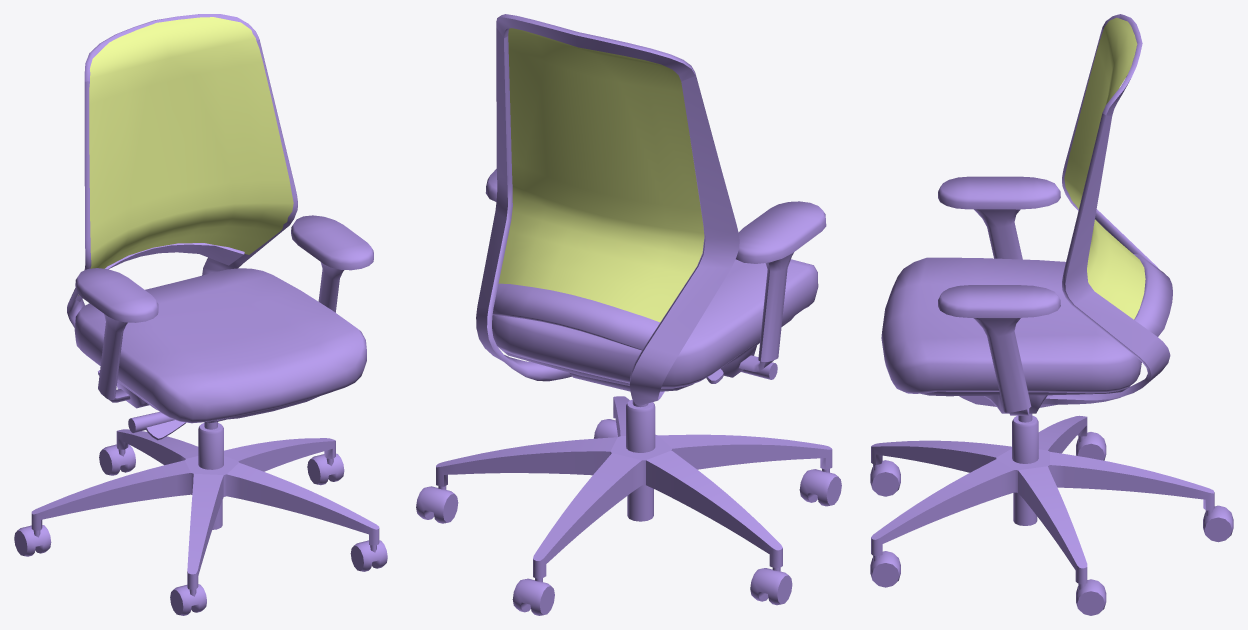
The model's file is TaskChair.FBX.
3 renders of one model, left to right at view 1: azimuth 30°, elevation 25°; view 2: azimuth 150°, elevation 25°; view 3: azimuth 270°, elevation 25°, orthographic. The views are drawn at different scales.
Parts seen in each view (by area): view 1: Chair; view 2: Chair; view 3: Chair.
Boxes of the visible parts, bbox=[...] form: Chair: bbox=[14, 14, 387, 615]; Chair: bbox=[416, 14, 841, 615]; Chair: bbox=[870, 14, 1233, 615].
Size of what is drawn, in the model's own units: 93.94 by 136 by 90.44.
